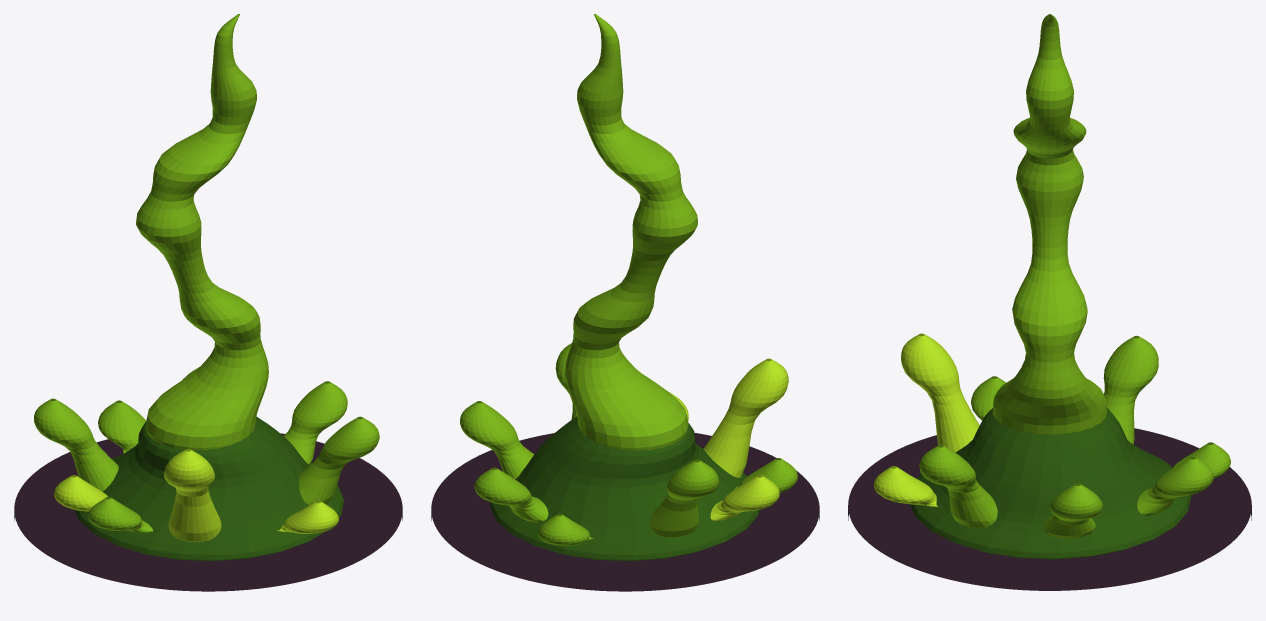
3 renders of one model, left to right at view 1: azimuth 30°, elevation 25°; view 2: azimuth 150°, elevation 25°; view 3: azimuth 270°, elevation 25°, orthographic. The views are drawn at different scales.
Bounding box in the file's own units: 3.2 × 4.57 × 3.2.
13 materials, 13 textured.
